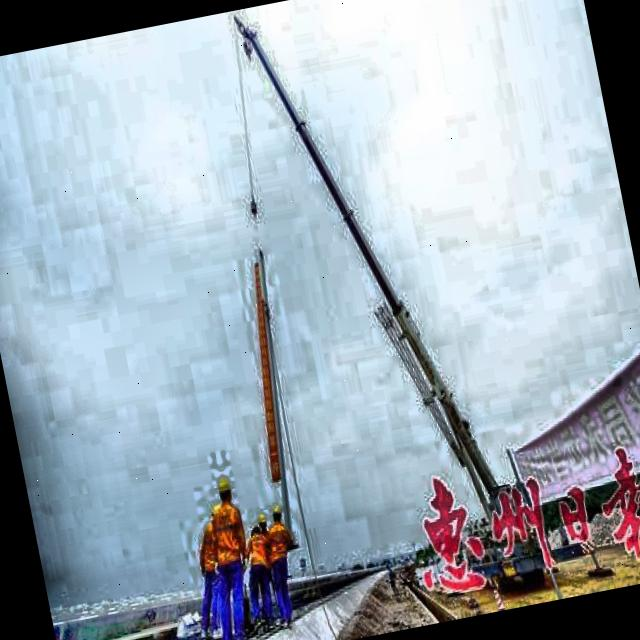helmet: (215, 474, 235, 511), (254, 509, 274, 538), (267, 503, 286, 530)
